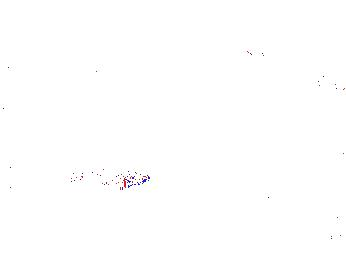X-ray fish: (56, 37, 111, 82)
glassfish: (66, 168, 151, 192)
red belly glassfish: (217, 46, 266, 64), (313, 74, 346, 91)
